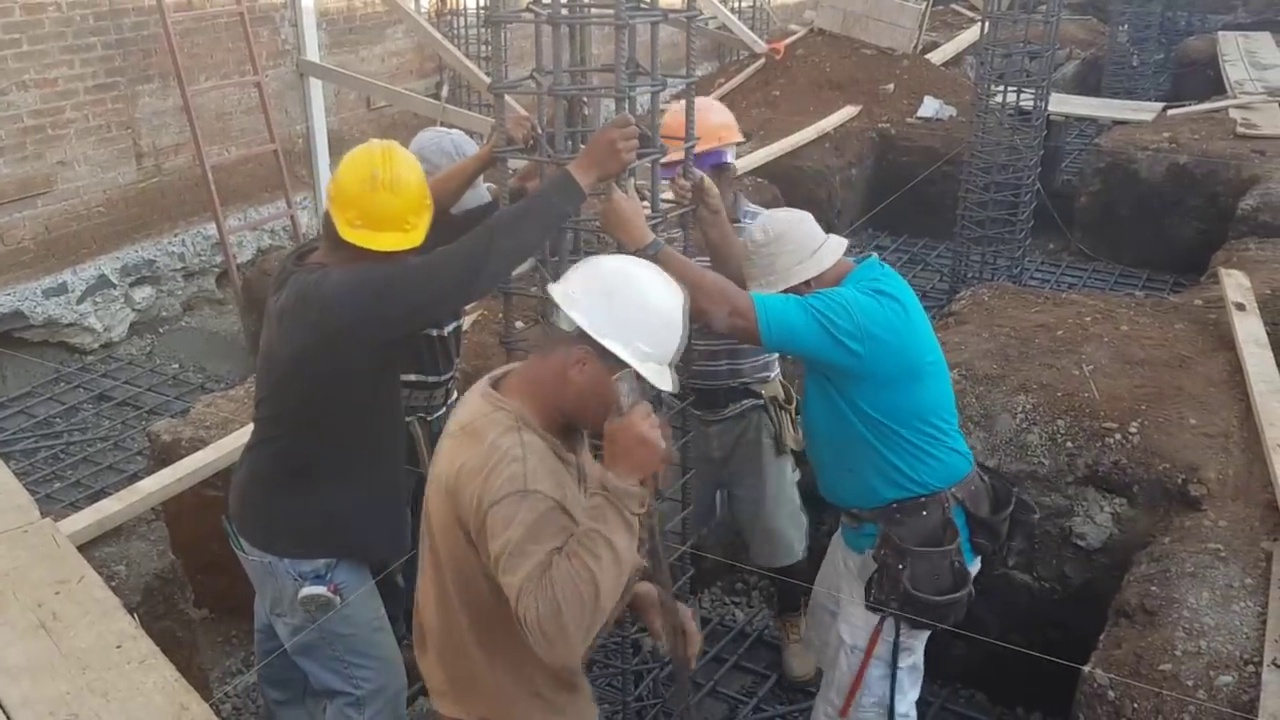helmet: (548, 244, 682, 410), (321, 141, 433, 251), (657, 89, 743, 155)
helmet-off: (714, 205, 855, 317), (404, 118, 500, 233)
helmet-on: (488, 254, 692, 454), (313, 132, 448, 264), (644, 87, 746, 217)
person: (594, 154, 993, 705), (216, 108, 575, 716), (414, 236, 687, 720), (645, 84, 824, 686)
